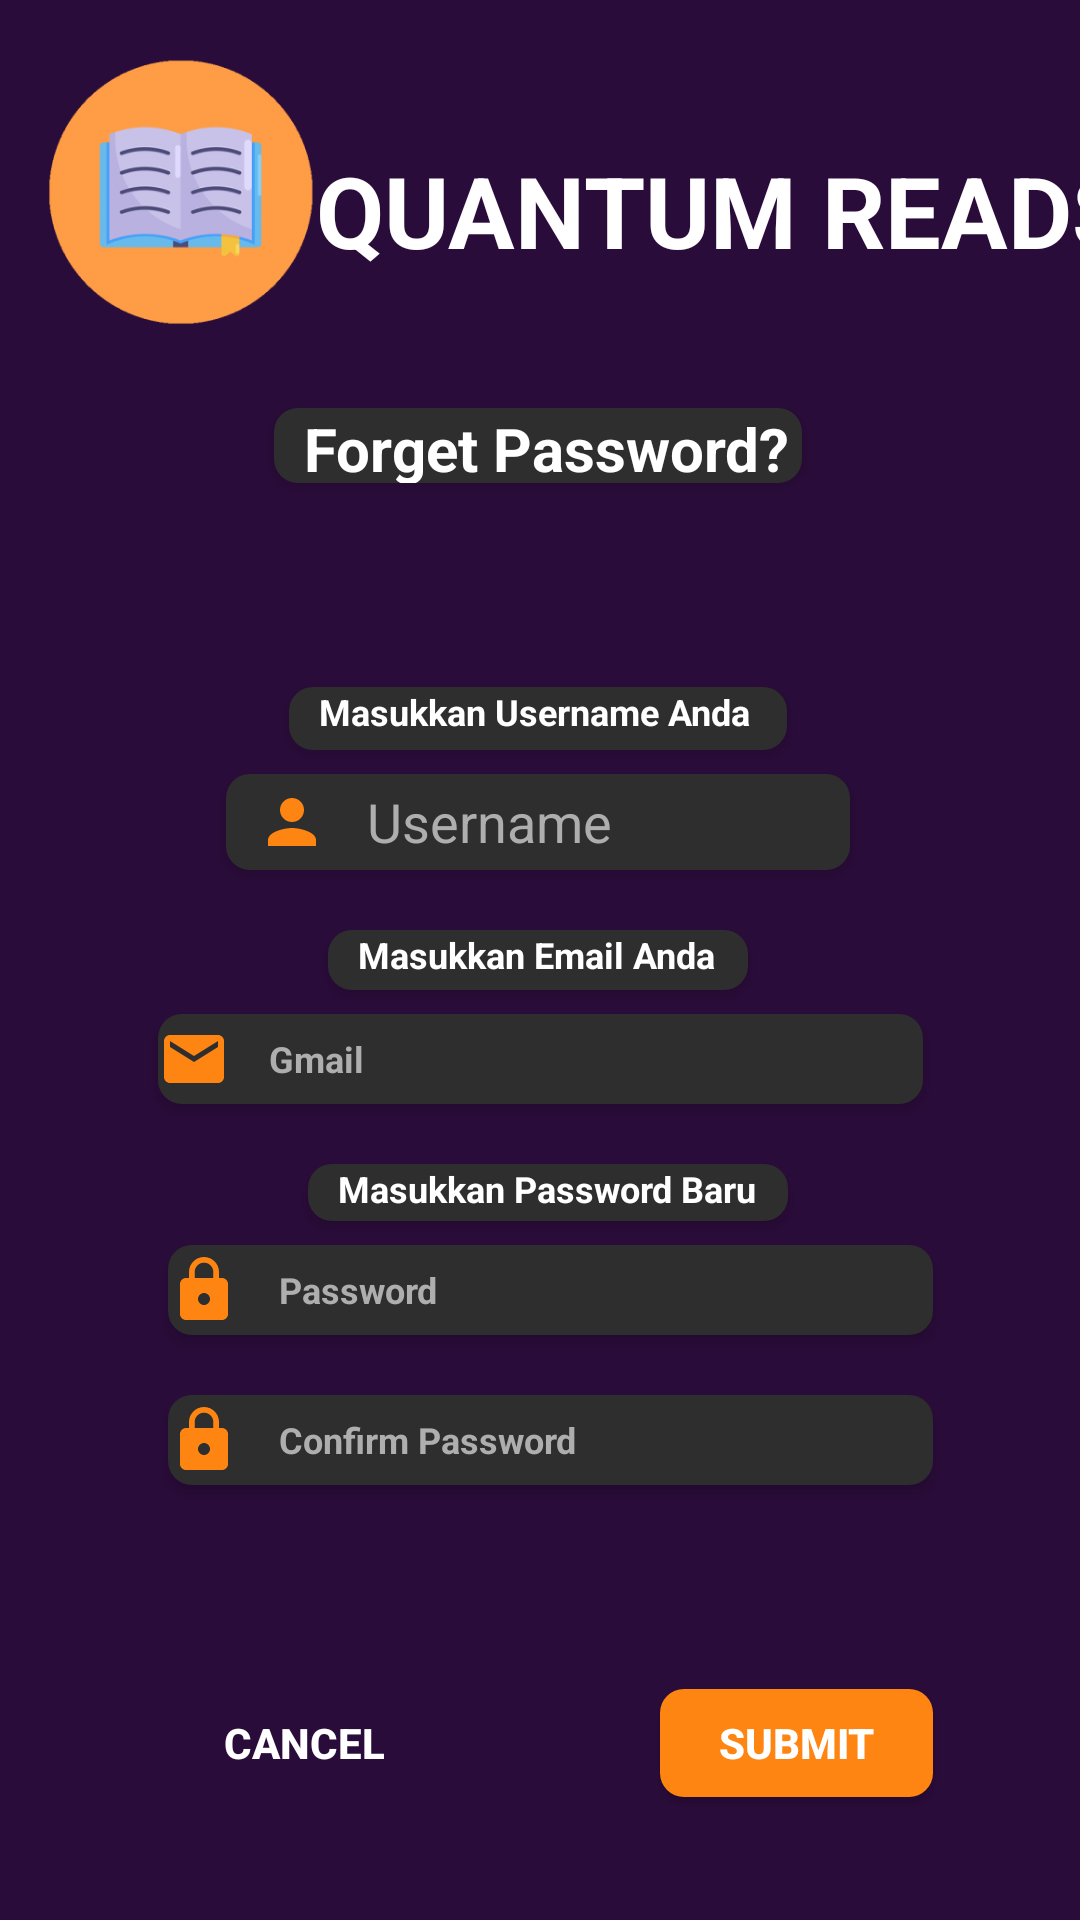

Where to tap for icons on this 1080px×1920px app screen, as [x,y]:
login buku: [181,192]
